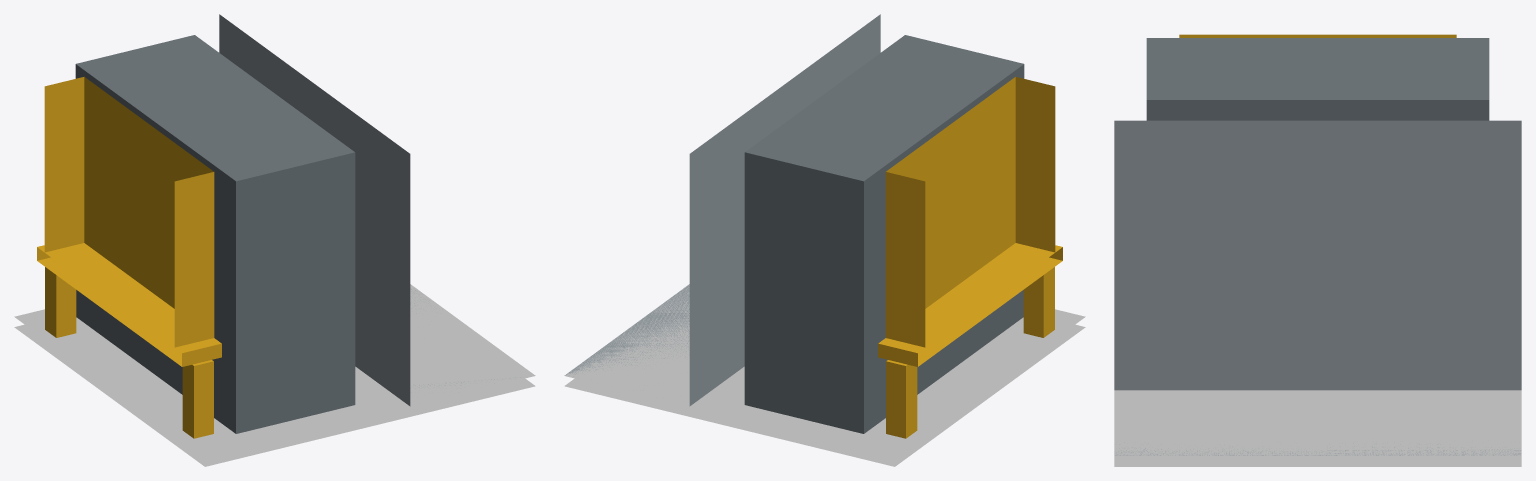
The model's file is cell_14.obj.
3 renders of one model, left to right at view 1: azimuth 30°, elevation 25°; view 2: azimuth 150°, elevation 25°; view 3: azimuth 270°, elevation 25°, orthographic. The views are drawn at different scales.
Bounding box in the file's own units: 1 × 0.76 × 1.
